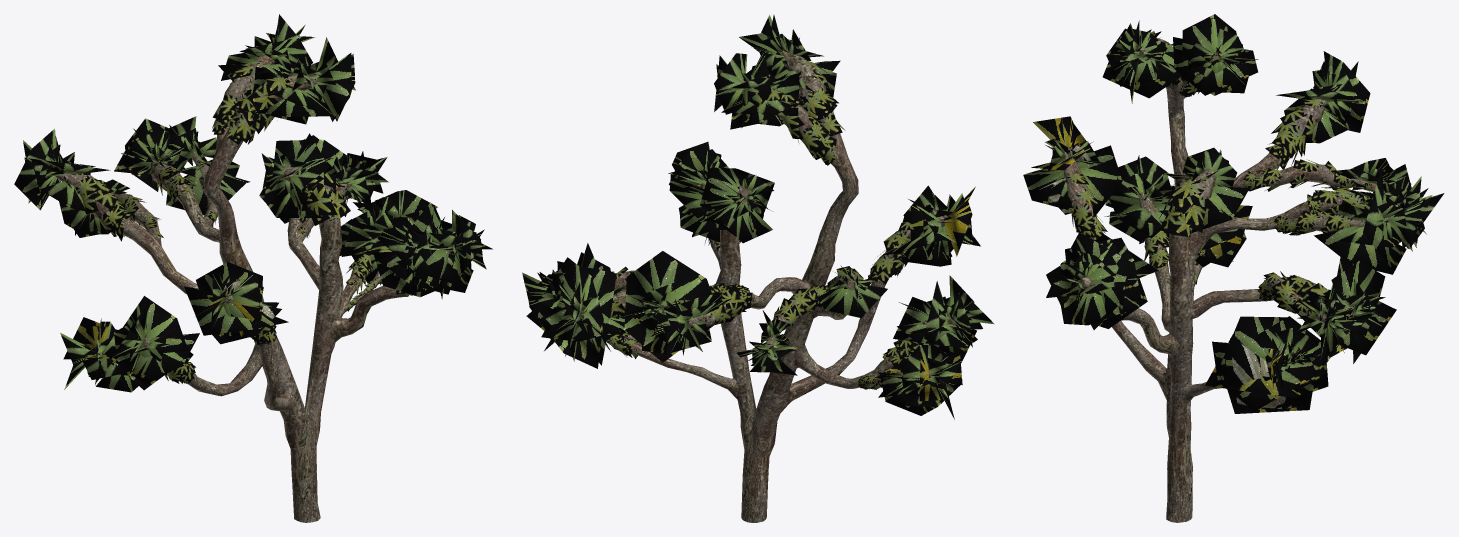
File: Palm_Yucca_Desktop_001_67014f.glb
3 views of the same model, side by side, from view 1: azimuth 30°, elevation 25°; view 2: azimuth 150°, elevation 25°; view 3: azimuth 270°, elevation 25° (orthographic).
Size of the model in its own units: 7.58 by 8.83 by 6.79.
2 materials, 2 textured.
